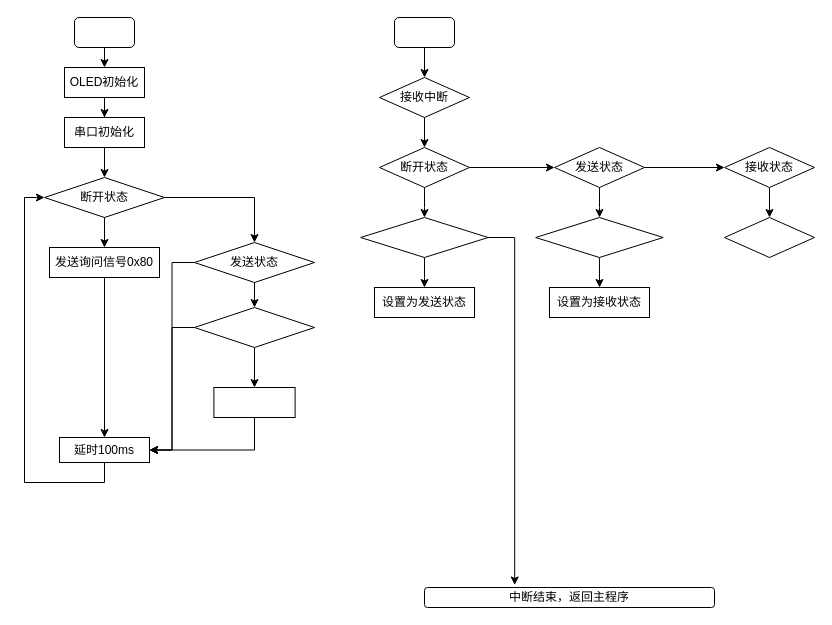
Image size: 832x625. Some labels were removed from this diagram. The shapes that lost their labels are listed below. From the top down, each one's centre as x and y in pixels, then its label:
At point (104, 32): "开始".
At point (424, 32): "串口中断".
At point (424, 237): "应答信号0x70".
At point (599, 237): "应答信号0x07".
At point (769, 237): "首次接收".
At point (254, 327): "首次发送数据".
At point (254, 402): "发送数据".
